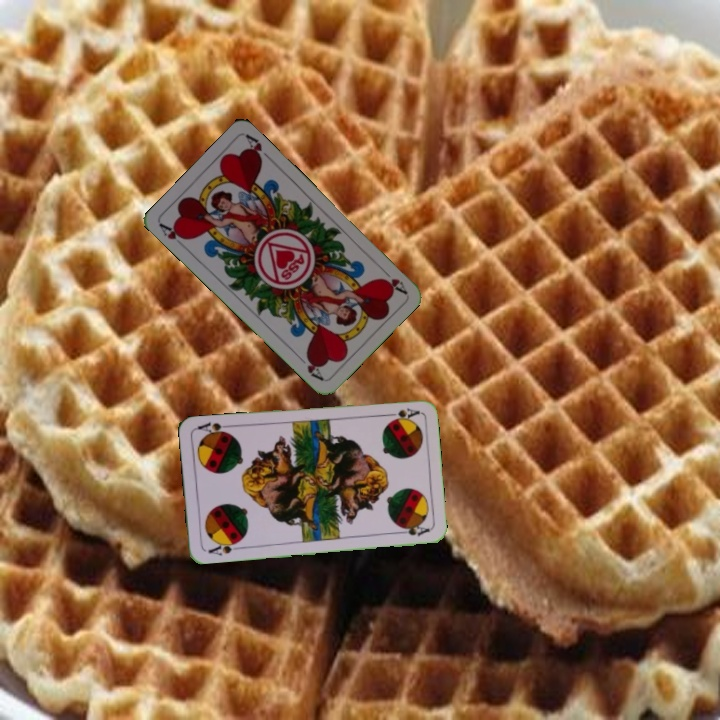HA: (376, 263, 409, 296), (156, 220, 191, 243)
SA: (204, 537, 243, 558), (381, 404, 421, 423)
